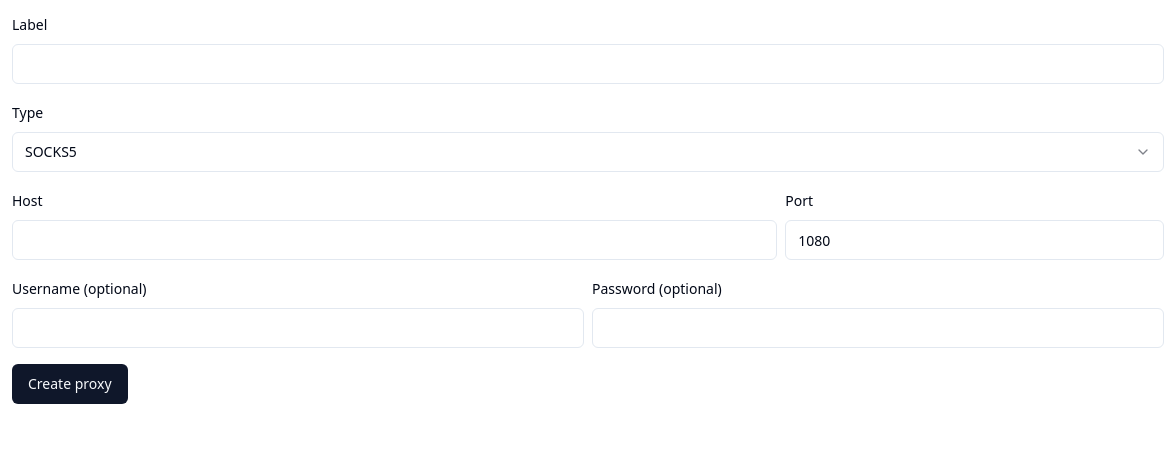
it: ProxyForm › rejects port > 65535
This screenshot has width=1176, height=449.
Type "l" into the field labelled "Label" at (588, 64), box [12,44,1164,84]
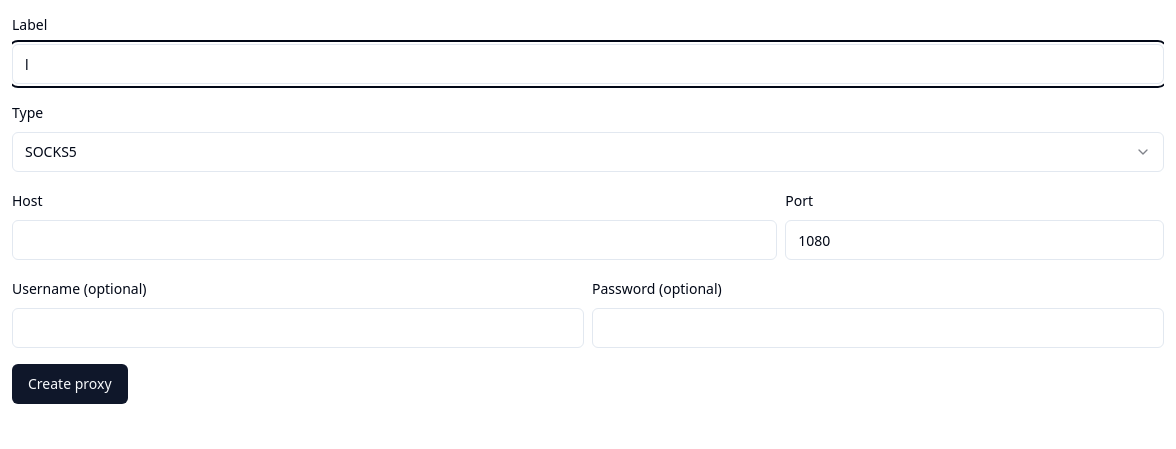
Type "h" into the field labelled "Host" at (395, 240), box [12,220,777,260]
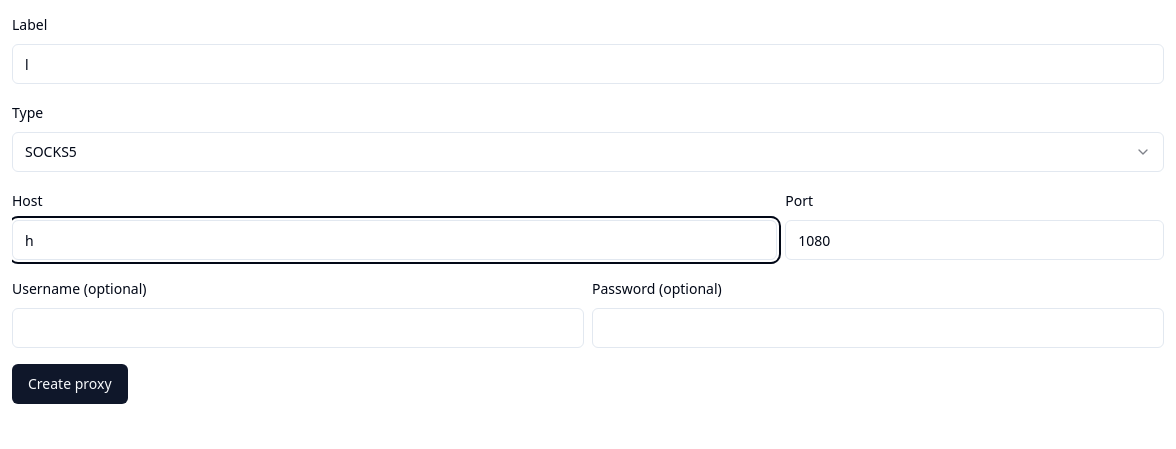
Replace the text in the number field labelled "Port" with "99999" at (975, 240), box [785,220,1164,260]
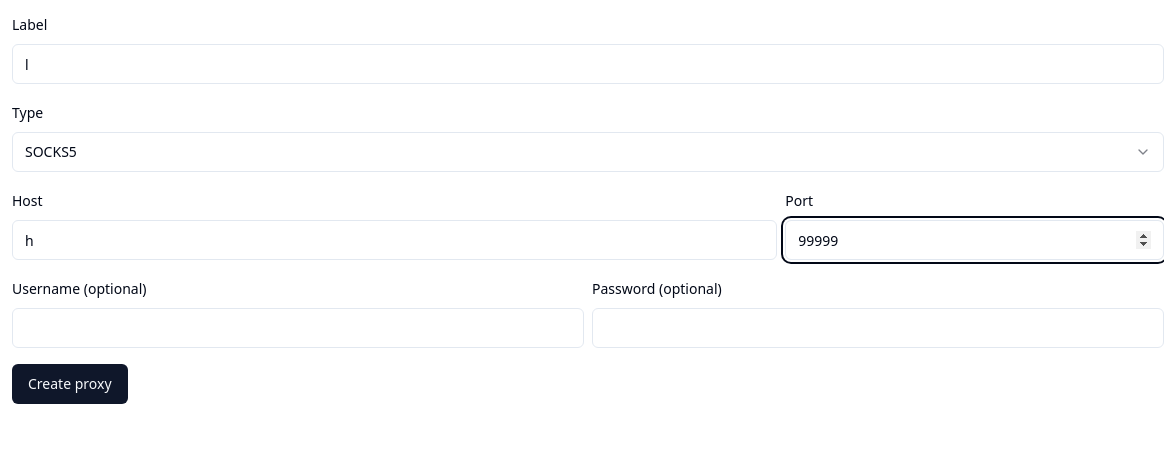
Click the button "Create proxy" at (70, 384), box [12,364,128,404]
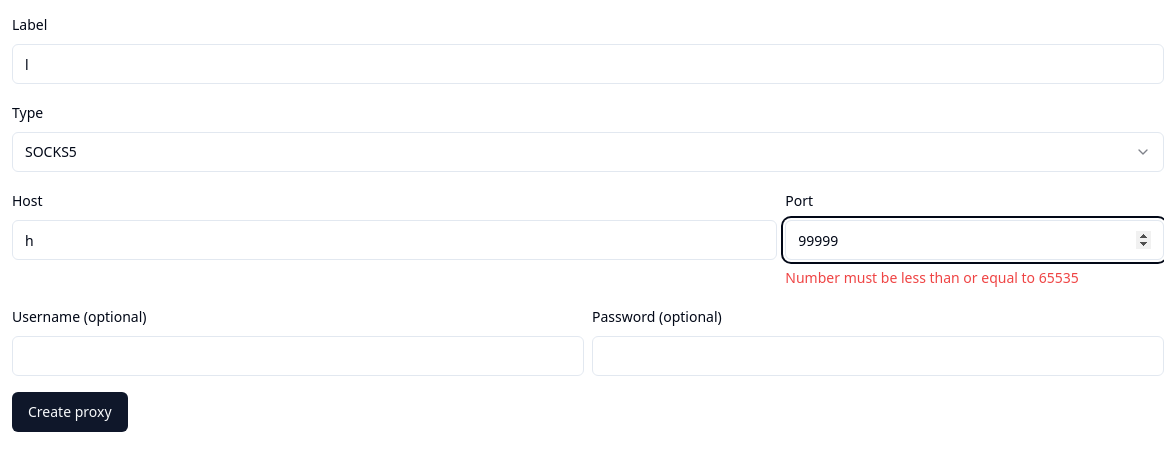
Expected: the text "65535" is shown, [785,268,1079,287]
